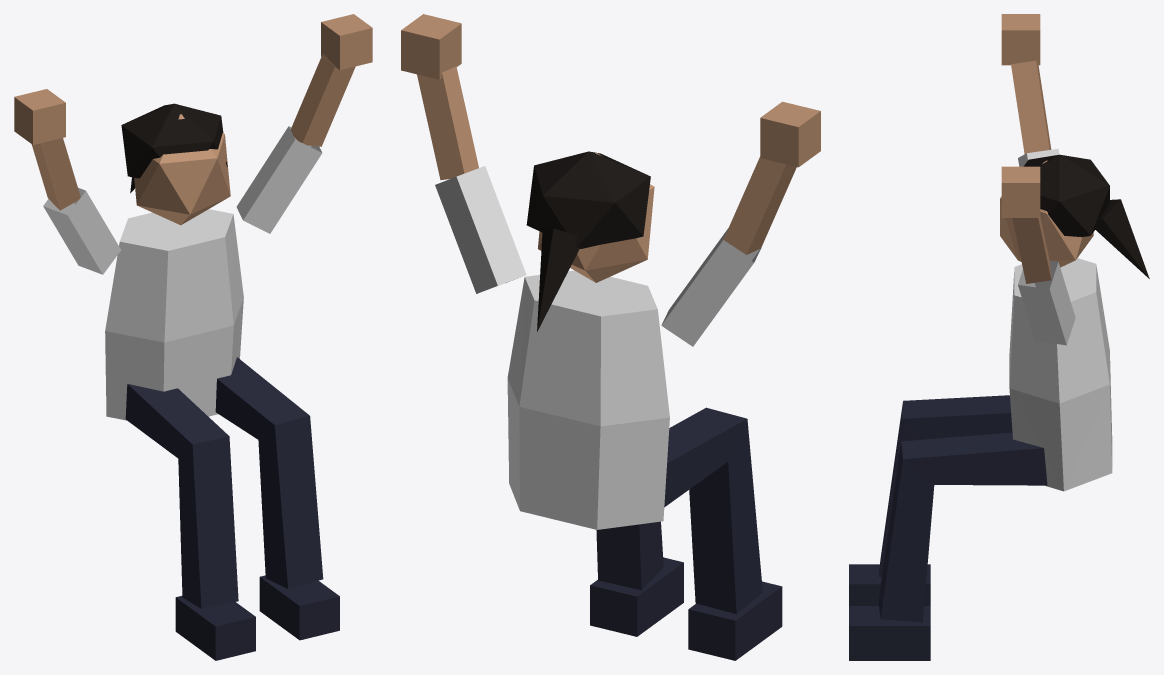
File: fan-2.glb
3 views of the same model, side by side, from view 1: azimuth 30°, elevation 25°; view 2: azimuth 150°, elevation 25°; view 3: azimuth 270°, elevation 25° (orthographic). The views are drawn at different scales.
Parts seen in each view (by area): view 1: fan-2; view 2: fan-2; view 3: fan-2.
Boxes of the visible parts, bbox=[...] form: fan-2: bbox=[14, 14, 372, 660]; fan-2: bbox=[401, 14, 820, 660]; fan-2: bbox=[849, 14, 1149, 660].
Size of the model in its own units: 0.93 by 1.37 by 0.7.
